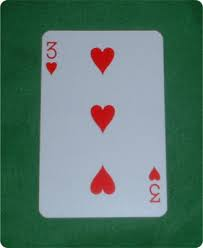two of hearts: (38, 31, 168, 216)
